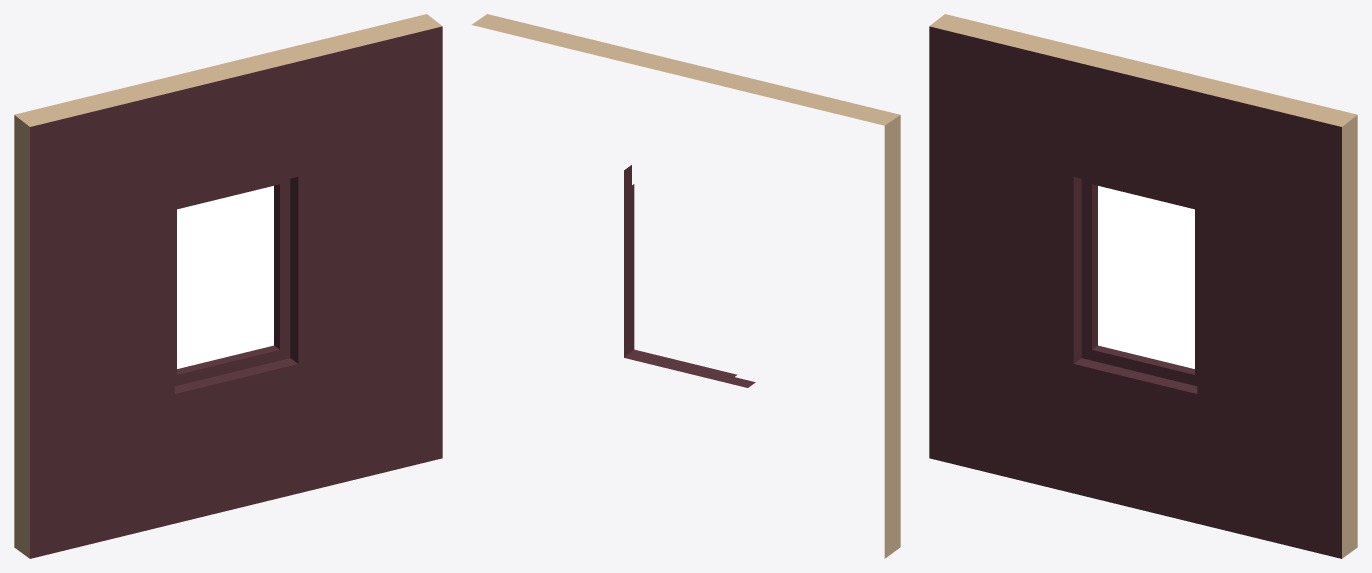
File: buildings-house-wall-window-3x3m.glb
The picture shows the model from 3 angles, left to right: view 1: azimuth 30°, elevation 25°; view 2: azimuth 150°, elevation 25°; view 3: azimuth 330°, elevation 25°; orthographic projection.
Visible parts, largest first — view 1: house-wall-window-3x3m; view 2: house-wall-window-3x3m; view 3: house-wall-window-3x3m.
Part boxes in pixels (x1,y1,x2,y2): house-wall-window-3x3m: [14, 14, 442, 558]; house-wall-window-3x3m: [472, 14, 900, 558]; house-wall-window-3x3m: [929, 14, 1357, 558].
Bounding box in the file's own units: 3 × 3.01 × 0.2.
